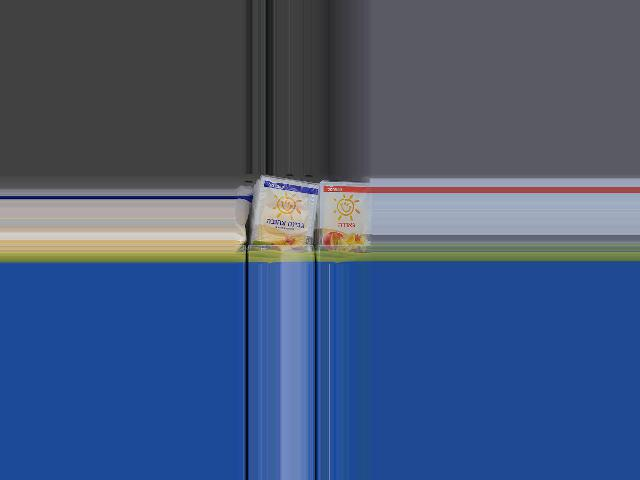cheese: (318, 176, 373, 262)
